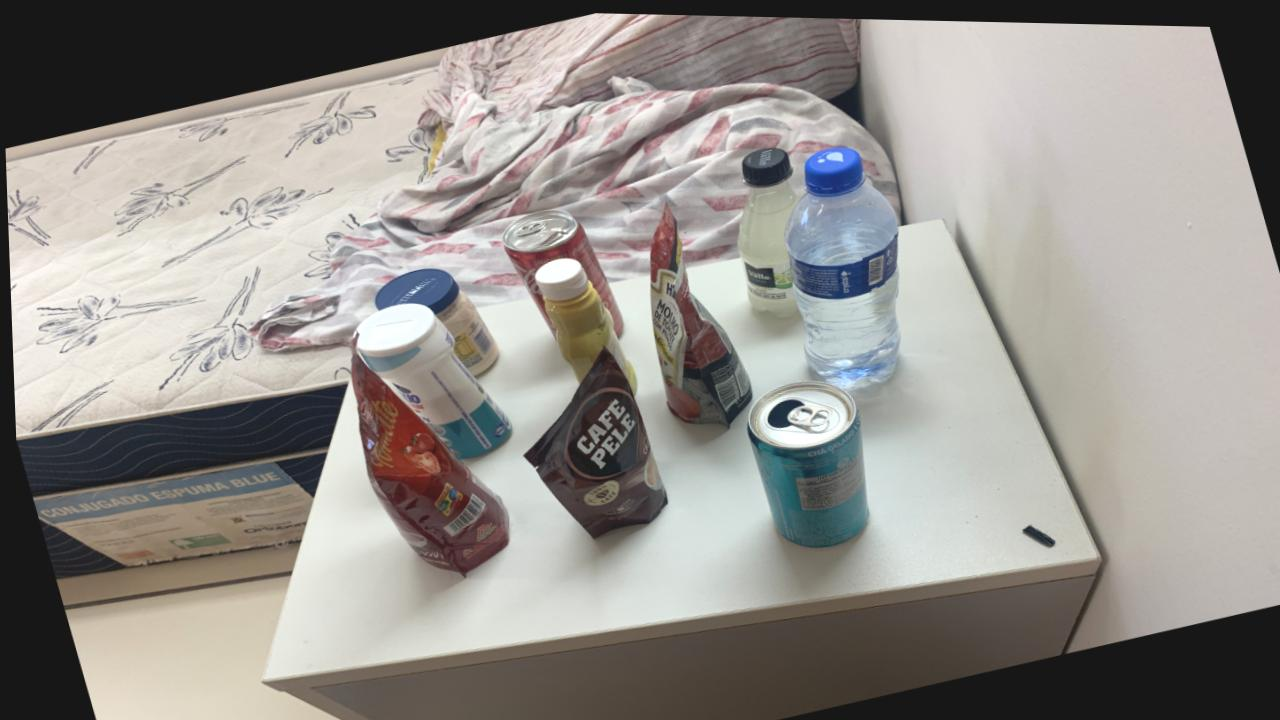Cleaner-Cleanup_Items: (351, 301, 509, 457)
Coffee-Pantry_Items: (522, 349, 664, 535)
Coke-Drinks: (500, 207, 622, 331)
Mayonnaise-Pantry_Items: (374, 267, 496, 374)
Mustard-Pantry_Items: (533, 255, 634, 387)
Soda-Drinks: (735, 143, 797, 314)
Tea-Drinks: (744, 377, 866, 544)
Tomato_Sauce-Pantry_Items: (348, 349, 505, 573), (647, 204, 750, 422)
Water_Bottle-Drinks: (782, 142, 898, 384)
